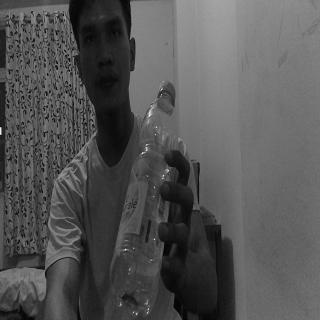plastic_bottles: (108, 78, 177, 320)
